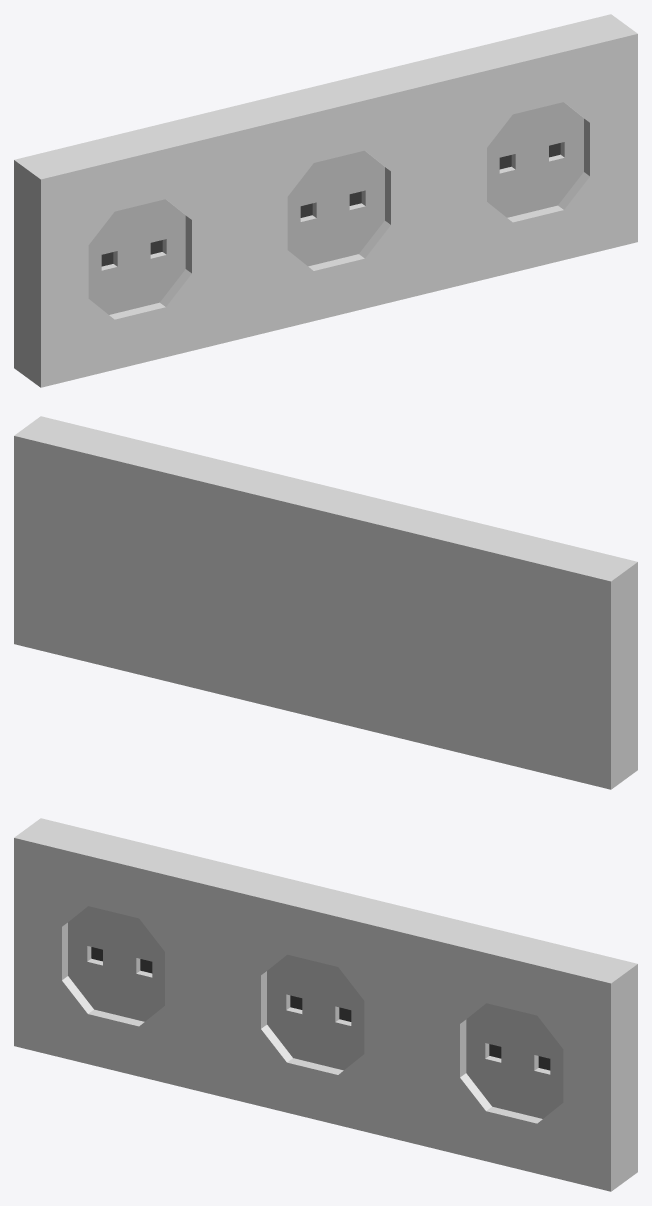
Rendered from Socket3_C1.fbx.
3 views of the same model, one above another, from view 1: azimuth 30°, elevation 25°; view 2: azimuth 150°, elevation 25°; view 3: azimuth 330°, elevation 25° (orthographic).
Visible parts, largest first — view 1: Socket3_C1; view 2: Socket3_C1; view 3: Socket3_C1.
Part boxes in pixels (x1,y1,x2,y2): Socket3_C1: (14,14,637,387); Socket3_C1: (14,416,637,789); Socket3_C1: (14,818,637,1191).
Size of the model in its own units: 25.33 by 8.44 by 1.97.
